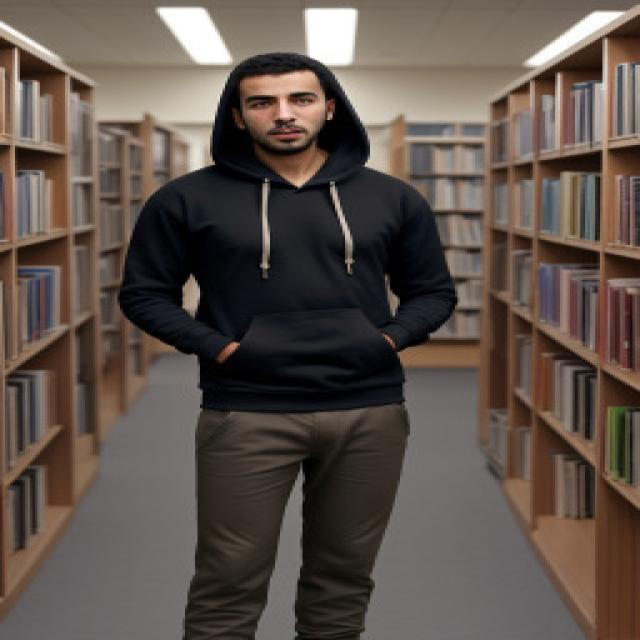Ai human 2: (103, 41, 478, 640)
